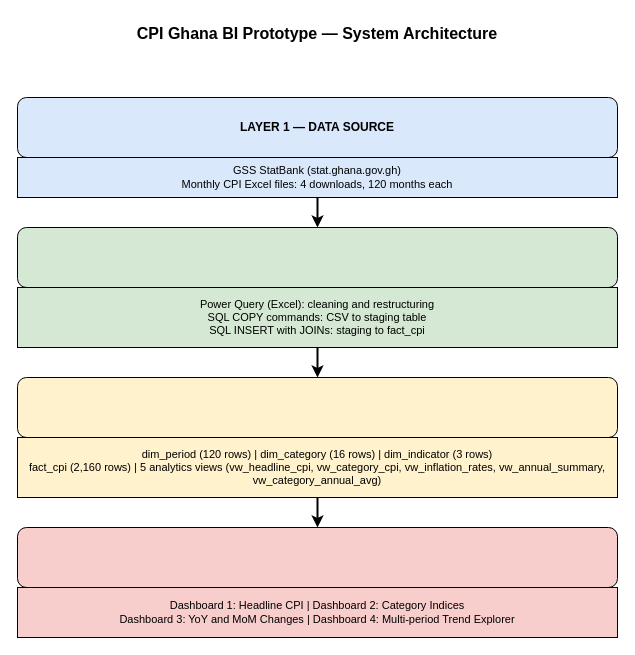
The diagram is 635 pixels wide and 655 high, and some of its shapes have lost their labels. Here are the shapes that lost their labels. From the top down, the box of each, then its label:
(16, 226, 618, 288): LAYER 2 — INTEGRATION (ETL)
(16, 376, 618, 438): LAYER 3 — DATA (PostgreSQL v15)
(16, 526, 618, 588): LAYER 4 — PRESENTATION (Power BI Desktop)
